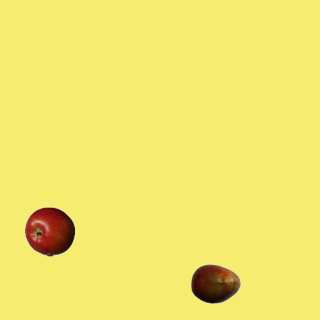Apple Braeburn: (24, 206, 74, 256)
Mango Red: (190, 258, 240, 308)
